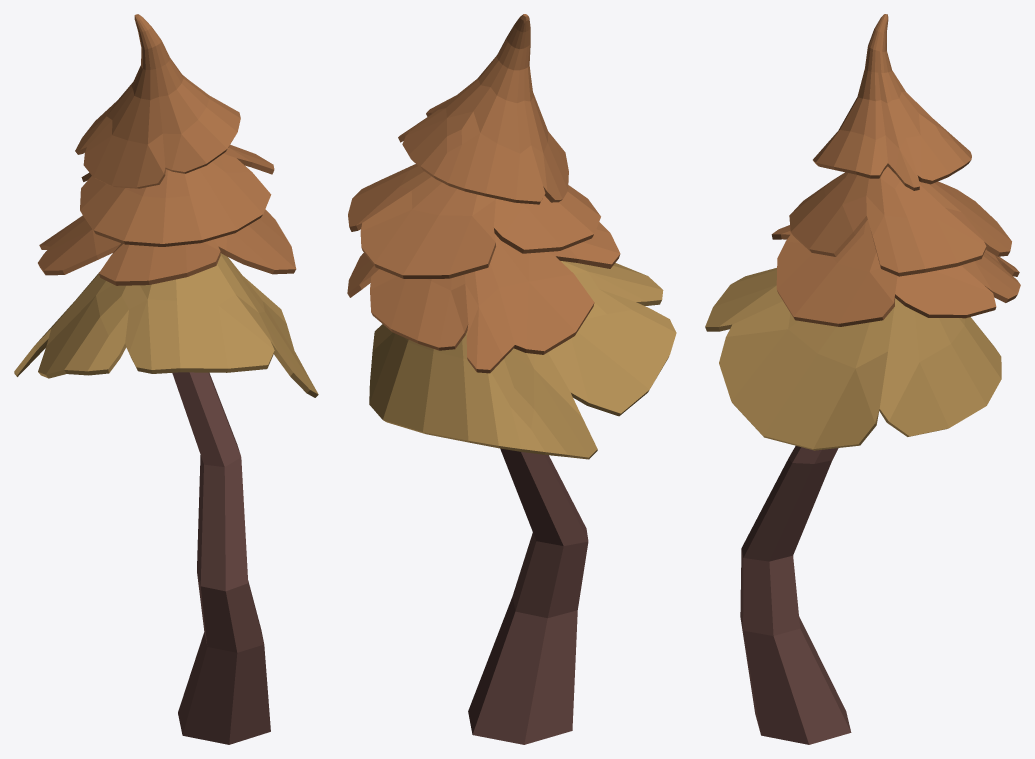
The model's file is PineTree_Autumn_4.glb.
3 renders of one model, left to right at view 1: azimuth 30°, elevation 25°; view 2: azimuth 150°, elevation 25°; view 3: azimuth 270°, elevation 25°, orthographic. The views are drawn at different scales.
Visible parts, largest first — view 1: Orange, LightOrange, Wood; view 2: Orange, LightOrange, Wood; view 3: Orange, LightOrange, Wood.
Boxes of the visible parts, x1,y1,x2,y2 form: Orange: (38,14,296,285); LightOrange: (14,253,318,397); Wood: (172,372,270,744); Orange: (347,14,620,373); LightOrange: (369,261,676,459); Wood: (468,448,588,744); Orange: (771,14,1020,326); LightOrange: (705,268,1001,450); Wood: (740,446,851,744).
Bounding box in the file's own units: 1.25 × 3.34 × 1.39.
